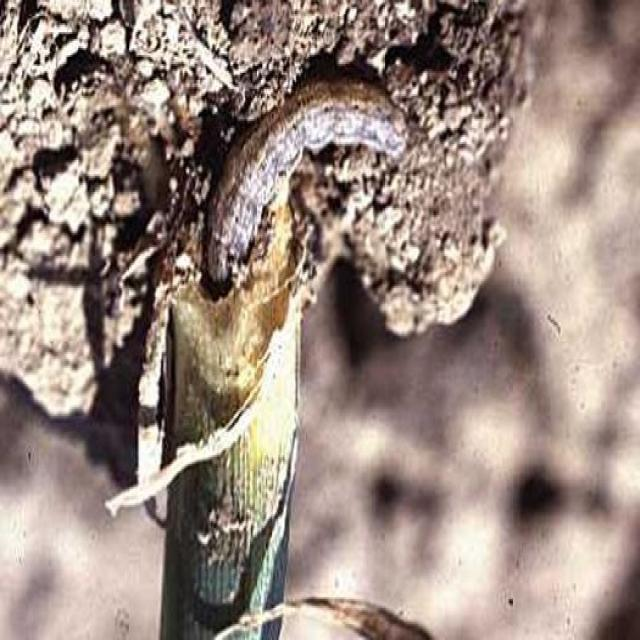black cutworm: (207, 69, 409, 274)
